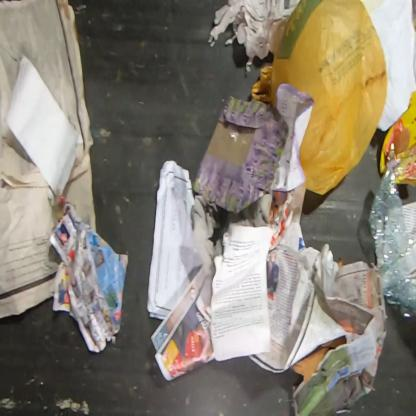cardboard: (192, 96, 286, 214), (292, 336, 346, 384)
rigid_plastic: (369, 142, 416, 315)
soft_plastic: (249, 0, 388, 197), (379, 90, 415, 190)
